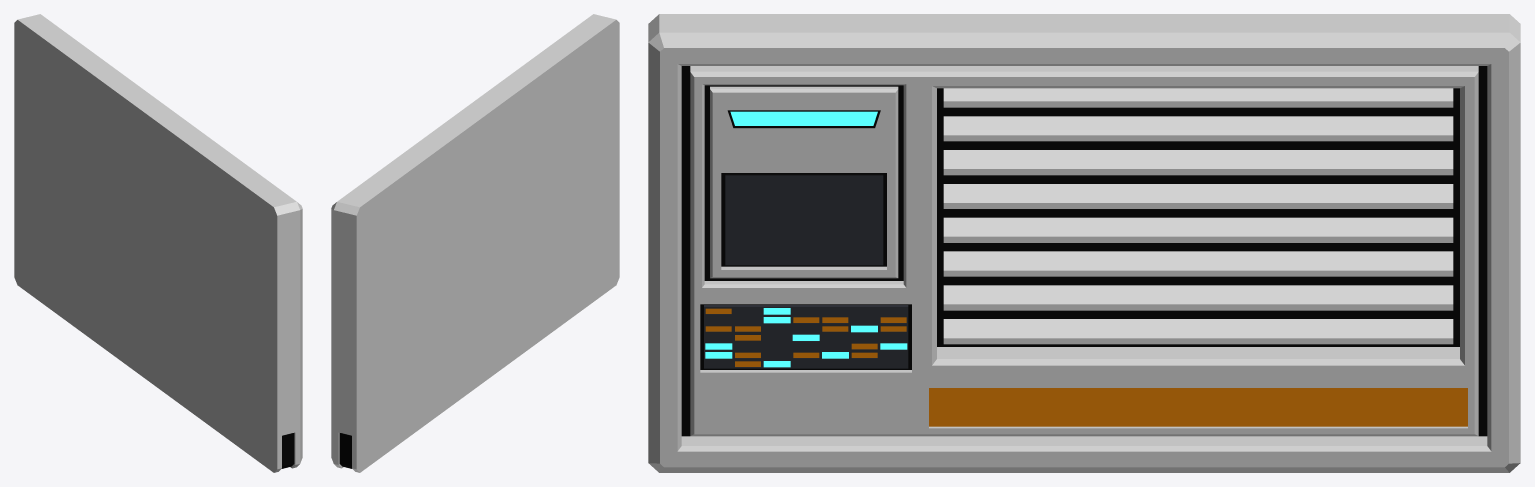
The model's file is SM_WallDecor_VentPanel.glb.
The picture shows the model from 3 angles, left to right: view 1: azimuth 30°, elevation 25°; view 2: azimuth 150°, elevation 25°; view 3: azimuth 270°, elevation 25°; orthographic projection. The views are drawn at different scales.
Parts seen in each view (by area): view 1: SM_WallDecor_VentPanel.001; view 2: SM_WallDecor_VentPanel.001; view 3: SM_WallDecor_VentPanel.001.
Part boxes in pixels (x1,y1,x2,y2): SM_WallDecor_VentPanel.001: [14, 14, 302, 472]; SM_WallDecor_VentPanel.001: [331, 14, 619, 472]; SM_WallDecor_VentPanel.001: [648, 14, 1520, 472].
Size of the model in its own units: 0.2554 by 2.23 by 4.
